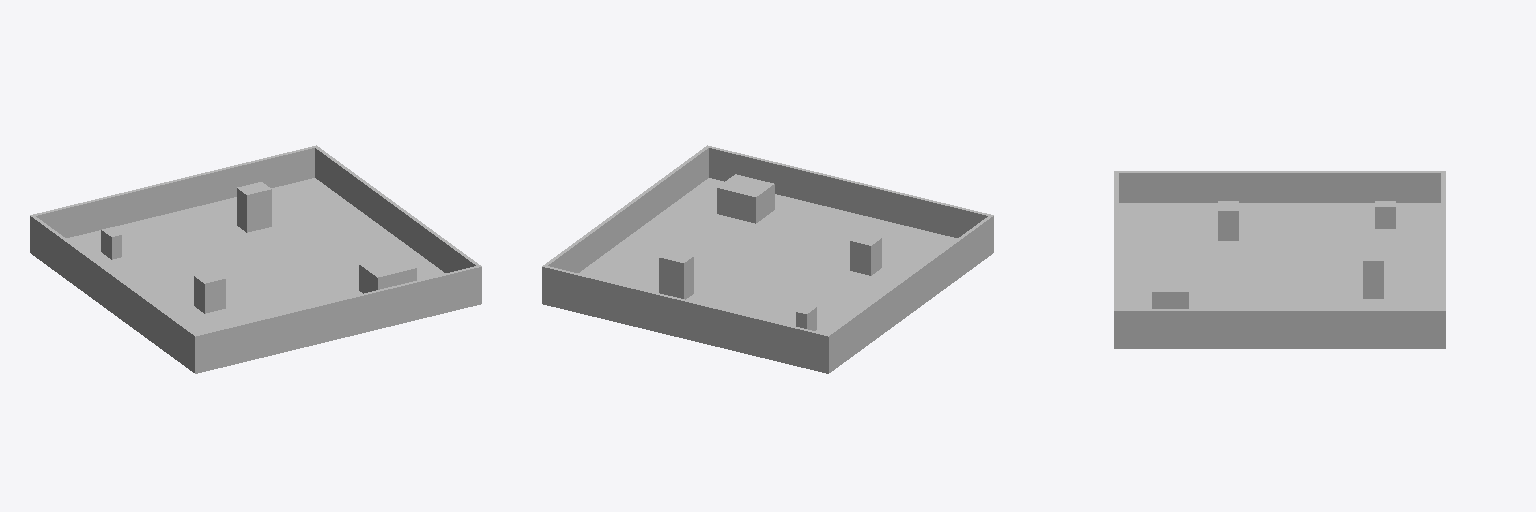
The model's file is TestMap.obj.
3 views of the same model, side by side, from view 1: azimuth 30°, elevation 25°; view 2: azimuth 150°, elevation 25°; view 3: azimuth 270°, elevation 25° (orthographic).
Parts seen in each view (by area): view 1: object 1; view 2: object 1; view 3: object 1.
Part boxes in pixels (left/top/right/bottom): object 1: left=30, top=145, right=481, bottom=373; object 1: left=542, top=145, right=993, bottom=373; object 1: left=1114, top=171, right=1445, bottom=348.
Bounding box in the file's own units: 8 × 1.2 × 8.